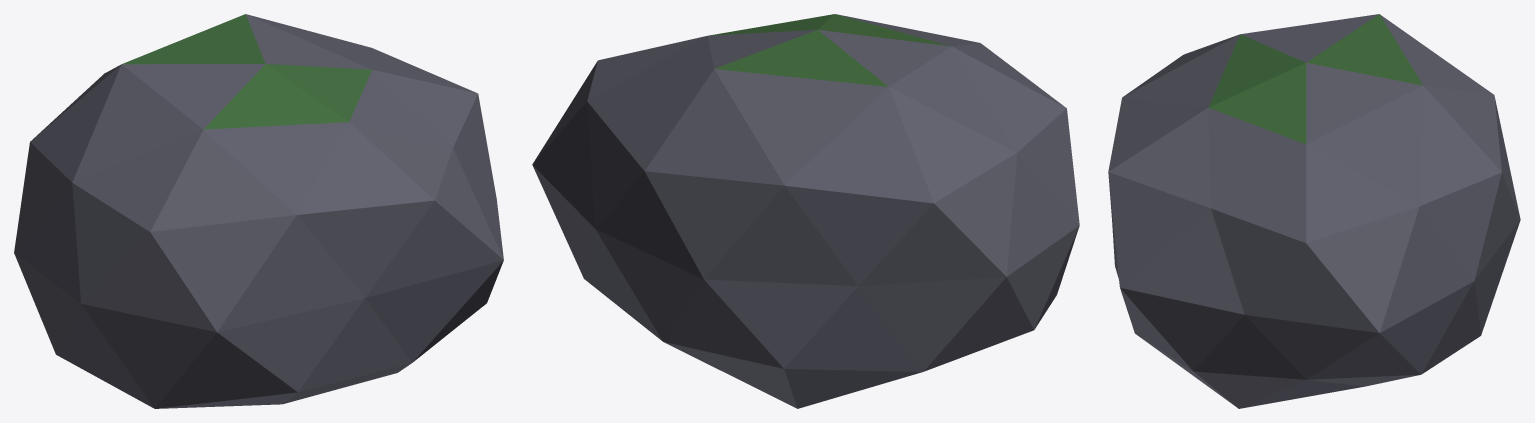
File: boulder_a.glb
The picture shows the model from 3 angles, left to right: view 1: azimuth 30°, elevation 25°; view 2: azimuth 150°, elevation 25°; view 3: azimuth 270°, elevation 25°; orthographic projection. The views are drawn at different scales.
Parts seen in each view (by area): view 1: boulder_a; view 2: boulder_a; view 3: boulder_a.
Part boxes in pixels (x1,y1,x2,y2): boulder_a: [14, 14, 503, 408]; boulder_a: [532, 14, 1079, 408]; boulder_a: [1108, 14, 1520, 408].
Bounding box in the file's own units: 0.9683 × 0.6542 × 0.7754.
